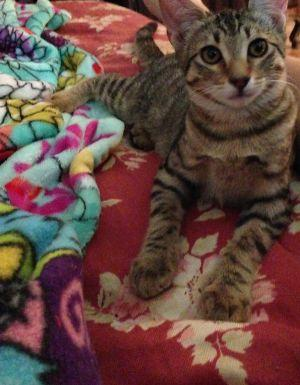bengal: (150, 1, 295, 110)
